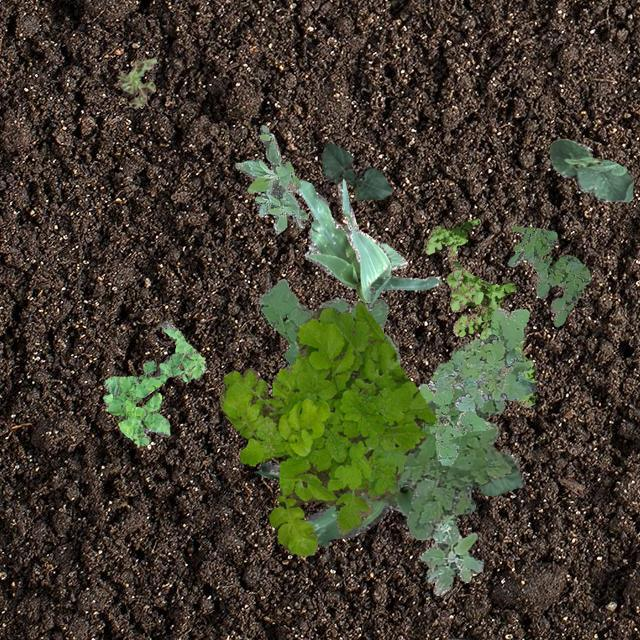crop: (292, 176, 440, 302), (252, 460, 412, 546), (550, 137, 632, 200), (308, 224, 407, 270), (320, 143, 392, 200), (476, 450, 524, 494)
weed: (258, 277, 510, 538), (218, 302, 436, 554), (422, 218, 536, 406), (101, 320, 206, 444), (428, 306, 534, 409), (506, 224, 590, 326), (235, 124, 308, 232), (417, 382, 492, 464), (418, 512, 482, 594), (116, 56, 156, 106)
